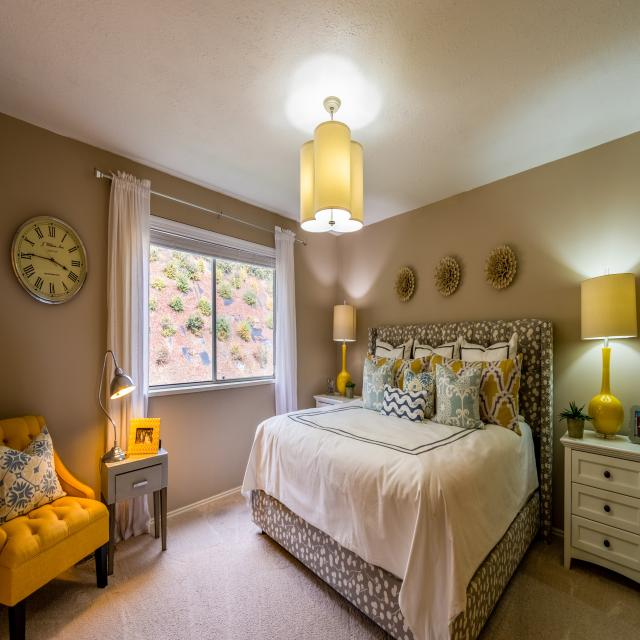floor: (25, 490, 398, 640), (476, 528, 640, 640), (147, 382, 276, 518)
wall: (0, 110, 340, 503), (337, 131, 640, 538), (0, 216, 88, 305), (337, 341, 344, 378)
